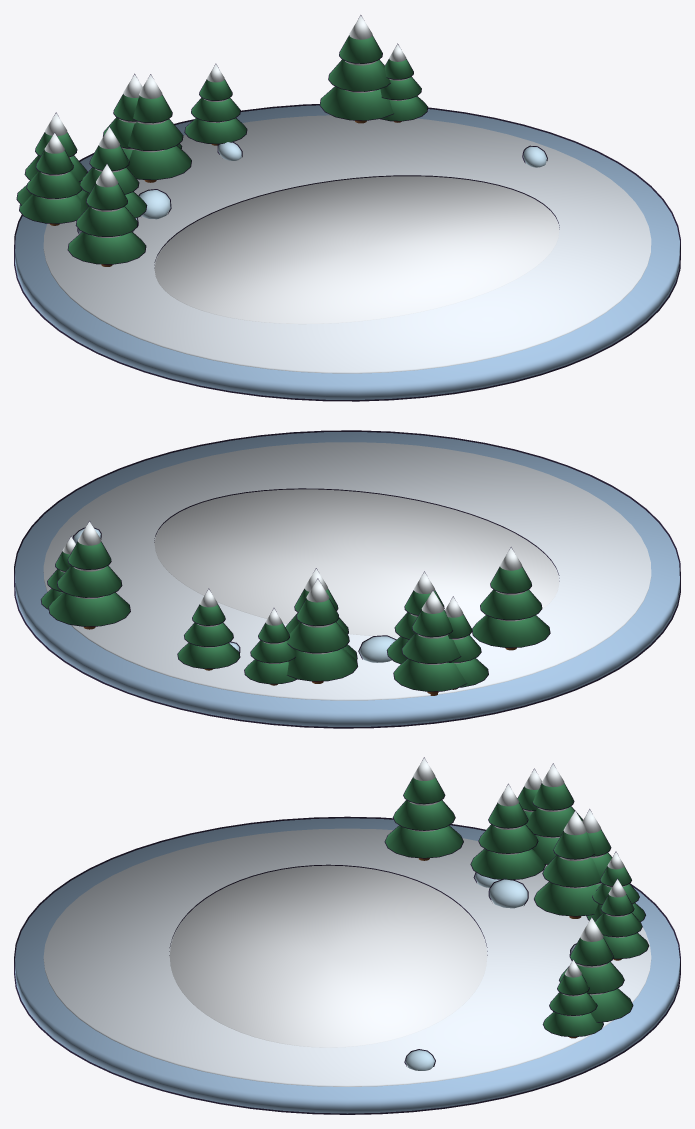
The model's file is frostpeak.glb.
3 views of the same model, one above another, from view 1: azimuth 30°, elevation 25°; view 2: azimuth 150°, elevation 25°; view 3: azimuth 270°, elevation 25° (orthographic).
Visible parts, largest first — view 1: ground, floor, skirt, tier.015, tier.009, tier.021, tier.010, tier.006, tier.016, tier.022, tier, tier.007 (+10 smaller); view 2: ground, floor, skirt, tier.009, tier.015, tier.003, tier.018, tier.010, tier.004, tier.016, tier.019, tier (+12 smaller); view 3: ground, floor, skirt, tier.015, tier.027, tier.021, tier.016, tier.022, tier.028, tier.012, tier.010, tier.019 (+12 smaller).
Part boxes in pixels (x1,y1,x2,y2): ground: [43, 115, 651, 373]; floor: [154, 175, 559, 324]; skirt: [14, 104, 680, 401]; tier.015: [67, 232, 146, 264]; tier.009: [319, 86, 393, 120]; tier.021: [126, 145, 191, 180]; tier.010: [328, 59, 390, 91]; tier.006: [19, 194, 81, 223]; tier.016: [75, 206, 138, 236]; tier.022: [127, 119, 183, 150]; tier: [184, 118, 247, 144]; tier.007: [26, 171, 82, 198]; ground: [43, 442, 651, 700]; floor: [154, 488, 559, 637]; skirt: [14, 430, 680, 728]; tier.009: [48, 592, 130, 626]; tier.015: [472, 615, 550, 647]; tier.003: [287, 648, 357, 681]; tier.018: [393, 659, 467, 691]; tier.010: [57, 565, 122, 597]; tier.004: [287, 622, 349, 653]; tier.016: [480, 589, 542, 620]; tier.019: [401, 633, 461, 663]; tier: [177, 643, 240, 668]; ground: [43, 828, 651, 1086]; floor: [169, 864, 487, 1047]; skirt: [14, 816, 680, 1114]; tier.015: [384, 825, 463, 858]; tier.027: [470, 848, 545, 880]; tier.021: [534, 882, 598, 916]; tier.016: [392, 800, 455, 830]; tier.022: [542, 855, 600, 887]; tier.028: [478, 824, 538, 853]; tier.012: [542, 1012, 603, 1037]; tier.010: [559, 961, 624, 994]; tier.019: [526, 806, 582, 837].
Bounding box in the file's own units: 21.07 × 4.32 × 21.07.
